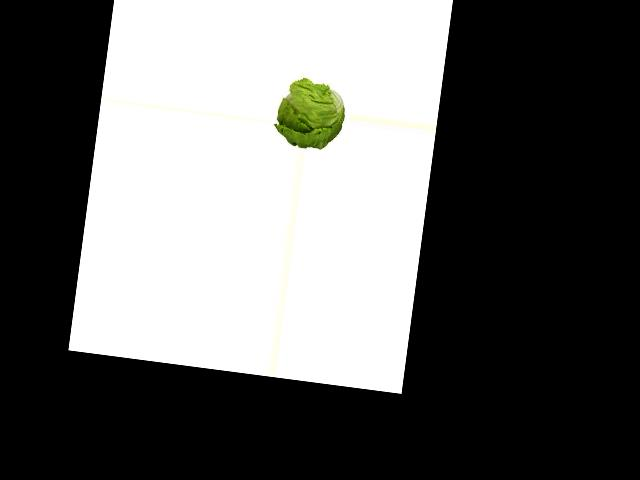lettuce: (273, 77, 350, 152)
